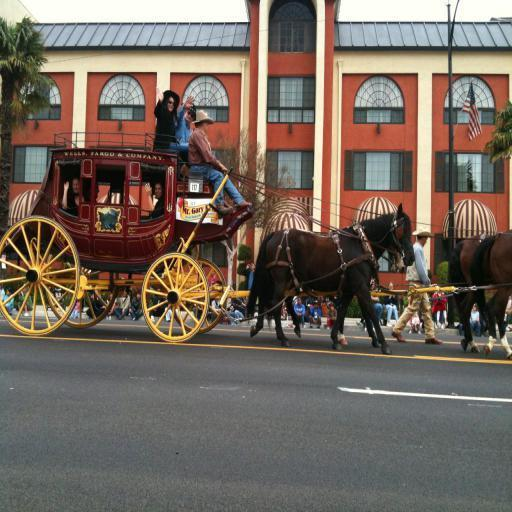horse: (245, 200, 416, 356), (264, 244, 406, 348), (446, 233, 494, 354), (469, 228, 512, 362)
